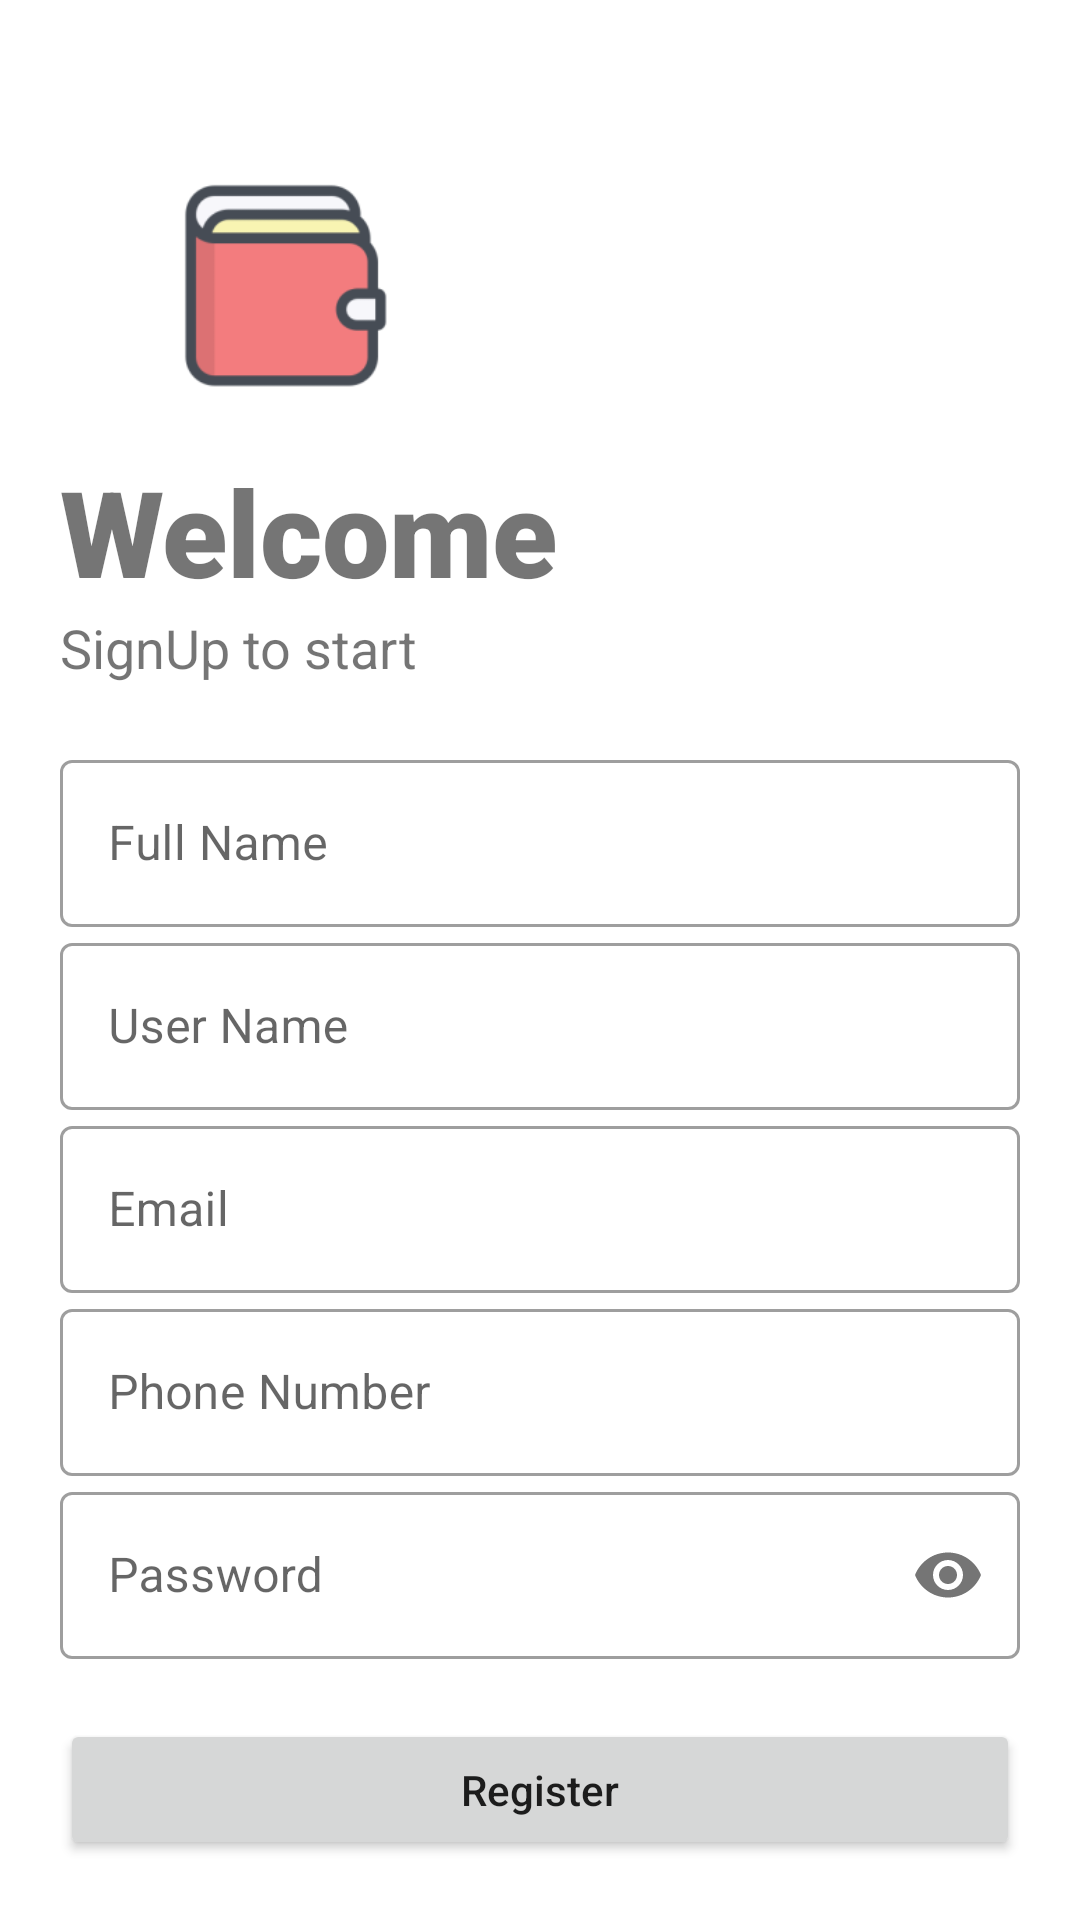

Where icons sit on this 1080px×1920px app screen, as (x1, y1, x2, y2):
wallet: (185, 185, 387, 387)
